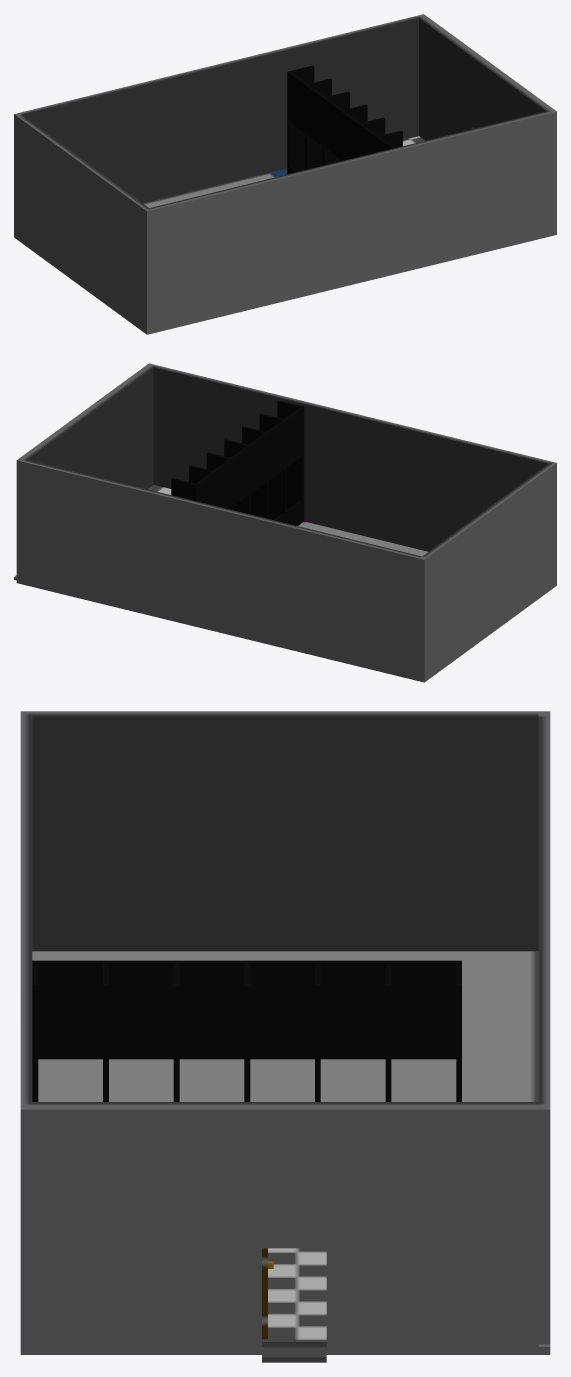
The model's file is building.fbx.
The picture shows the model from 3 angles, top to bottom: view 1: azimuth 30°, elevation 25°; view 2: azimuth 150°, elevation 25°; view 3: azimuth 270°, elevation 25°; orthographic projection. The views are drawn at different scales.
Bounding box in the file's own units: 163 × 46 × 90.
1 material, 1 textured.
